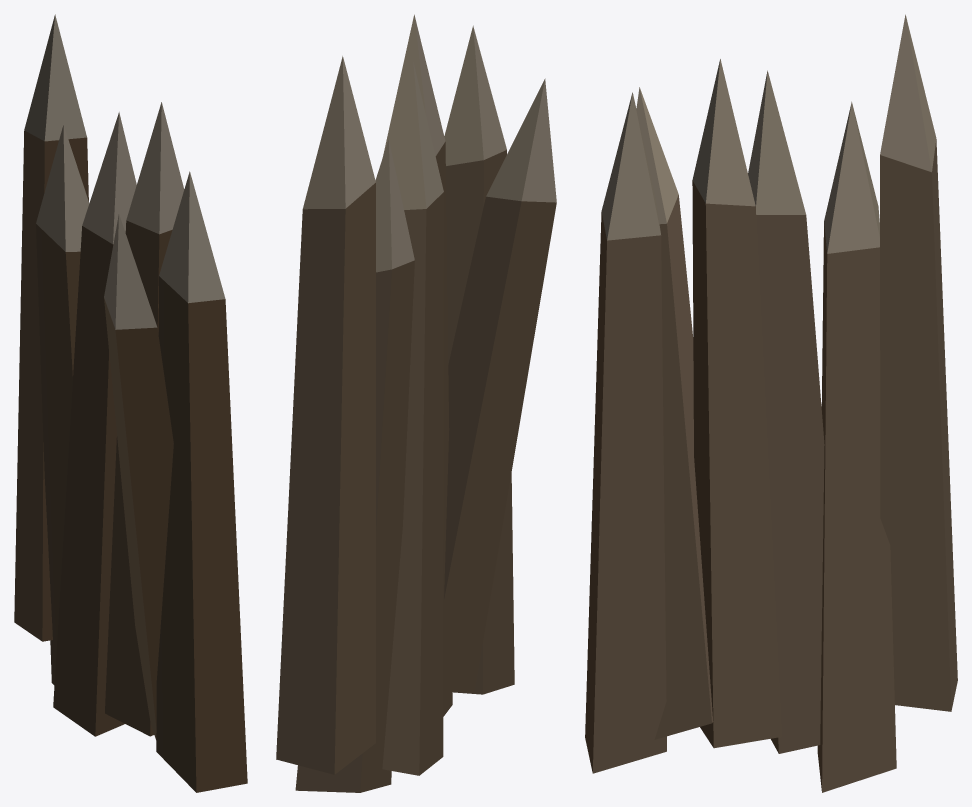
Rendered from BorderLinear_Horde.fbx.
3 views of the same model, side by side, from view 1: azimuth 30°, elevation 25°; view 2: azimuth 150°, elevation 25°; view 3: azimuth 270°, elevation 25° (orthographic). The views are drawn at different scales.
Visible parts, largest first — view 1: buluo_zhalan; view 2: buluo_zhalan; view 3: buluo_zhalan.
Part boxes in pixels (left/top/right/bottom): buluo_zhalan: left=14, top=14, right=247, bottom=792; buluo_zhalan: left=276, top=14, right=556, bottom=792; buluo_zhalan: left=585, top=14, right=957, bottom=792.
Size of the model in its own units: 0.9124 by 4.99 by 2.25.
